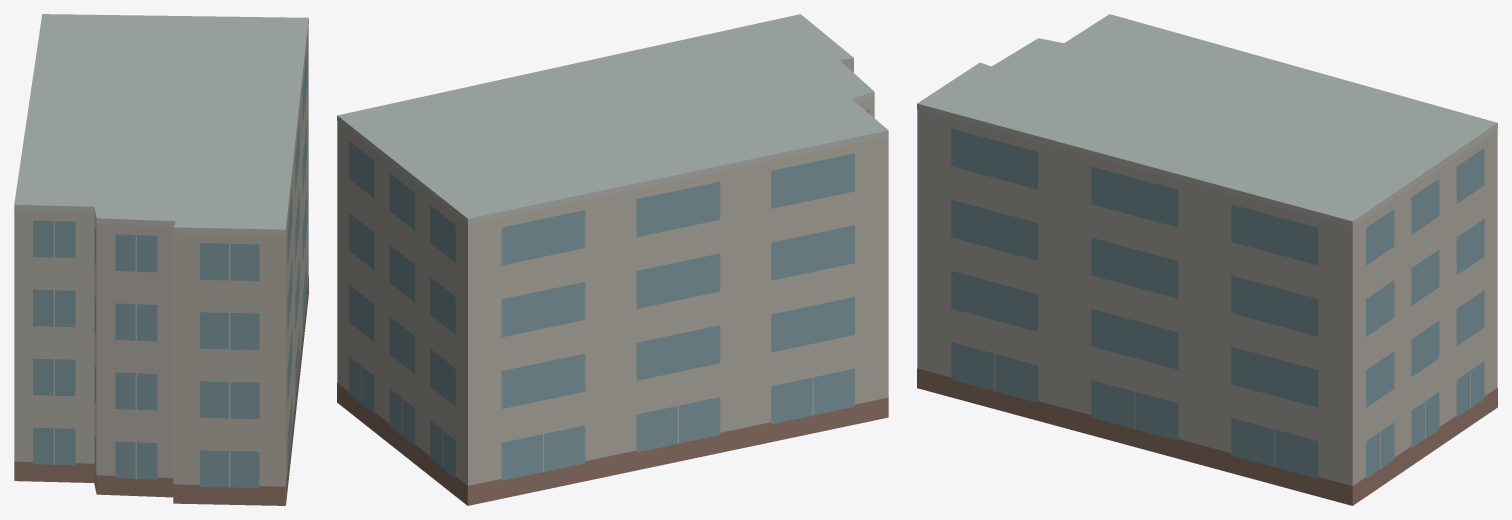
The model's file is survey-upis-32743010.glb.
3 views of the same model, side by side, from view 1: azimuth 30°, elevation 25°; view 2: azimuth 150°, elevation 25°; view 3: azimuth 270°, elevation 25° (orthographic). The views are drawn at different scales.
Parts seen in each view (by area): view 1: survey-upis-32743010.tmp; view 2: survey-upis-32743010.tmp; view 3: survey-upis-32743010.tmp.
Part boxes in pixels (x1,y1,x2,y2): survey-upis-32743010.tmp: (14,14,308,505); survey-upis-32743010.tmp: (337,14,888,505); survey-upis-32743010.tmp: (917,14,1497,505).
Bounding box in the file's own units: 19.08 × 12.2 × 22.57.
